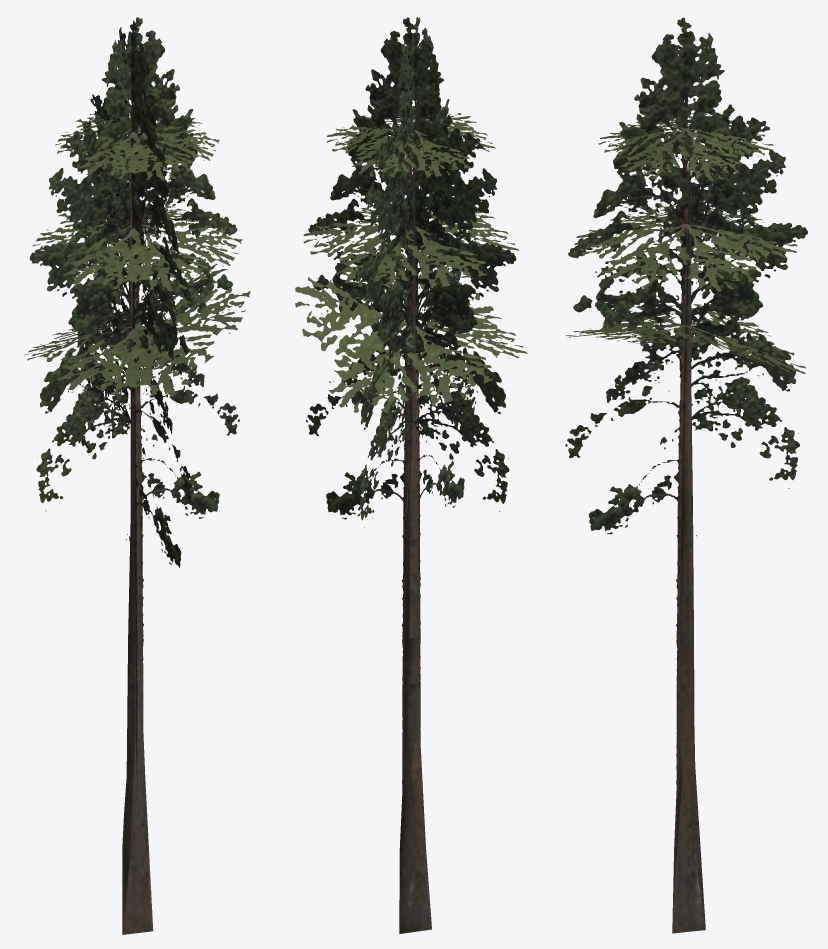
The model's file is borovice_k0.glb.
3 renders of one model, left to right at view 1: azimuth 30°, elevation 25°; view 2: azimuth 150°, elevation 25°; view 3: azimuth 270°, elevation 25°, orthographic.
Visible parts, largest first — view 1: Background_Tree_Atlas.007_Background_Tree_Atlas_0; view 2: Background_Tree_Atlas.007_Background_Tree_Atlas_0; view 3: Background_Tree_Atlas.007_Background_Tree_Atlas_0.
Part boxes in pixels (x1,y1,x2,y2): Background_Tree_Atlas.007_Background_Tree_Atlas_0: (24,17,250,934); Background_Tree_Atlas.007_Background_Tree_Atlas_0: (295,17,527,933); Background_Tree_Atlas.007_Background_Tree_Atlas_0: (565,17,807,933).
Bounding box in the file's own units: 4.35 × 17.43 × 4.37.
Materials: 1 (1 with a texture image).
